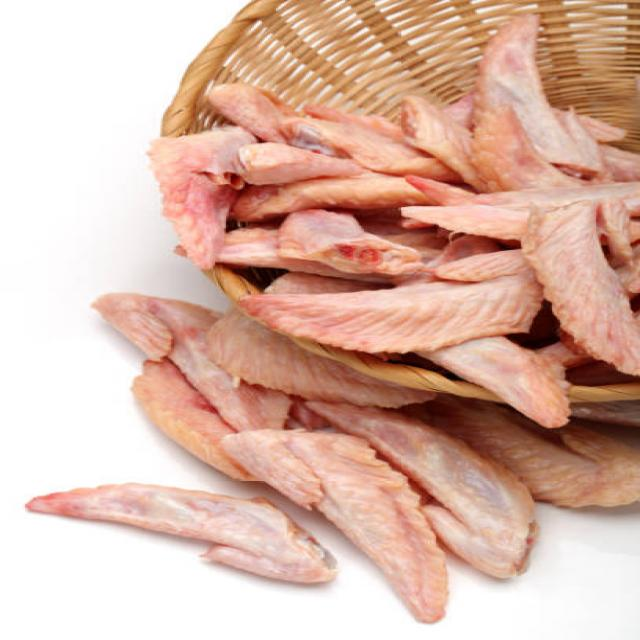Chicken: (236, 412, 467, 628), (24, 476, 324, 596)
